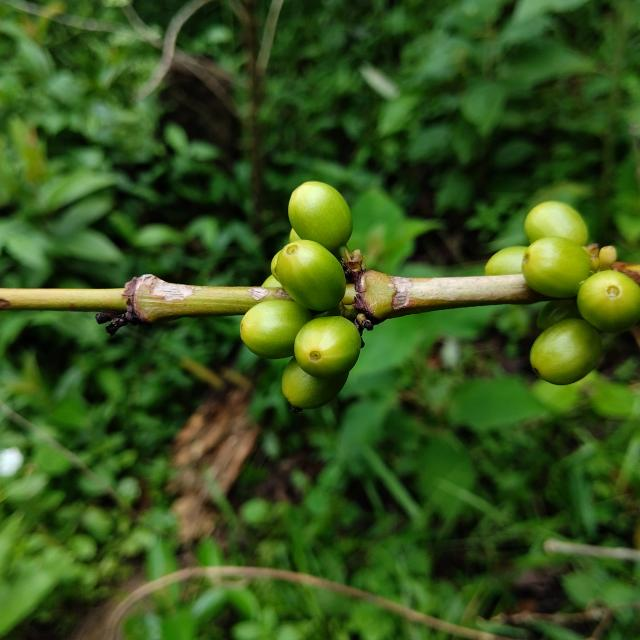green: (275, 239, 346, 311), (531, 319, 603, 385), (288, 181, 353, 252), (522, 236, 592, 298), (240, 300, 312, 359), (294, 316, 361, 379), (578, 270, 640, 333), (282, 358, 349, 410), (485, 246, 528, 275)
